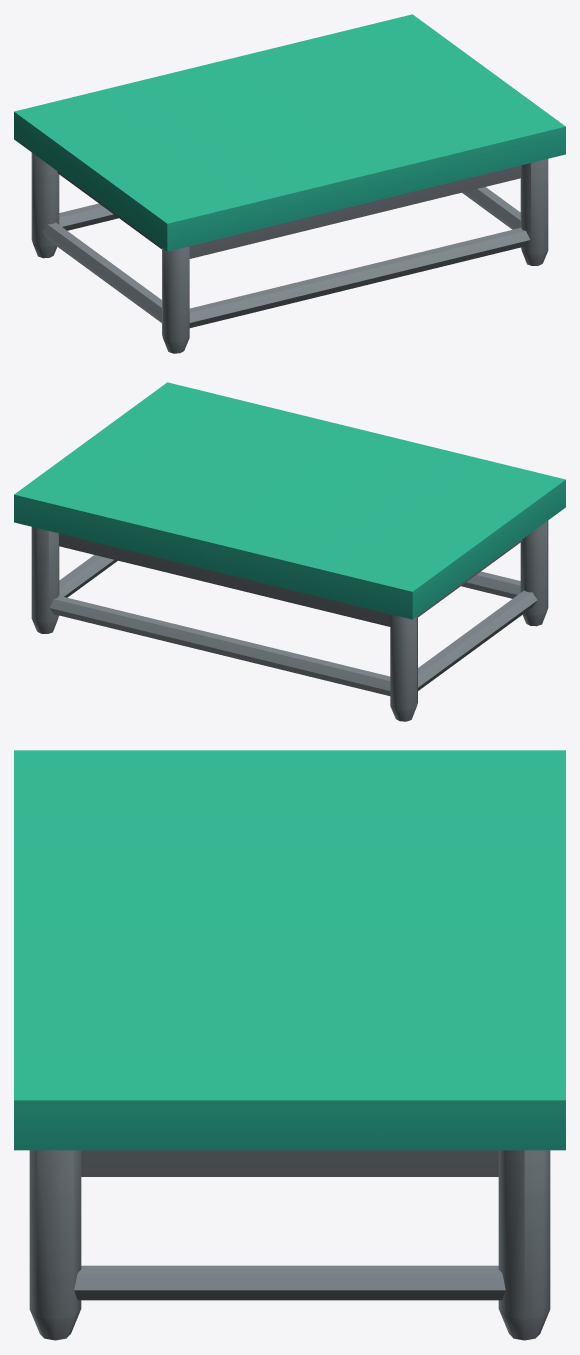
Rendered from kitchentable-b-large.glb.
3 renders of one model, top to bottom at view 1: azimuth 30°, elevation 25°; view 2: azimuth 150°, elevation 25°; view 3: azimuth 270°, elevation 25°, orthographic. The views are drawn at different scales.
Parts seen in each view (by area): view 1: kitchentable_B_large; view 2: kitchentable_B_large; view 3: kitchentable_B_large.
Part boxes in pixels (<box>): kitchentable_B_large: <box>14,14,565,353</box>; kitchentable_B_large: <box>14,382,565,721</box>; kitchentable_B_large: <box>14,750,565,1340</box>.
Bounding box in the file's own units: 3 × 1 × 2.
1 material, 1 textured.
